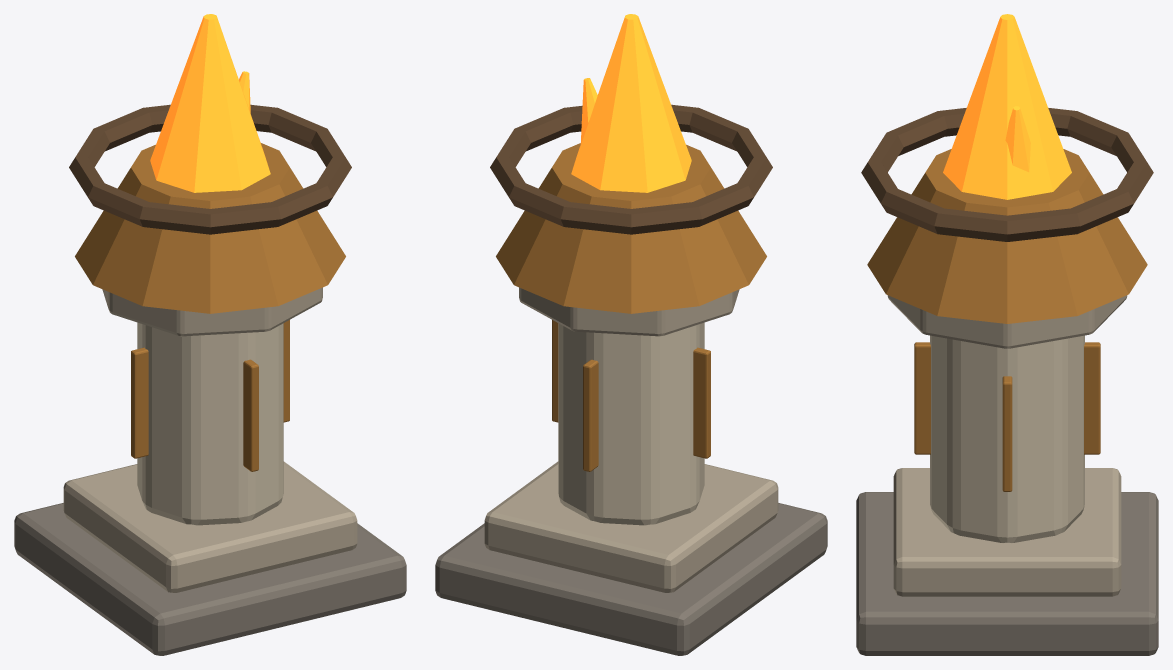
3 renders of one model, left to right at view 1: azimuth 30°, elevation 25°; view 2: azimuth 150°, elevation 25°; view 3: azimuth 270°, elevation 25°, orthographic. The views are drawn at different scales.
Visible parts, largest first — view 1: WK_StonePedestalBrazier_LOD1_Balanced; view 2: WK_StonePedestalBrazier_LOD1_Balanced; view 3: WK_StonePedestalBrazier_LOD1_Balanced.
Part boxes in pixels (x1,y1,x2,y2): WK_StonePedestalBrazier_LOD1_Balanced: (14, 14, 406, 655); WK_StonePedestalBrazier_LOD1_Balanced: (435, 14, 827, 655); WK_StonePedestalBrazier_LOD1_Balanced: (856, 14, 1158, 655).
Bounding box in the file's own units: 1.25 × 2.64 × 1.25.
